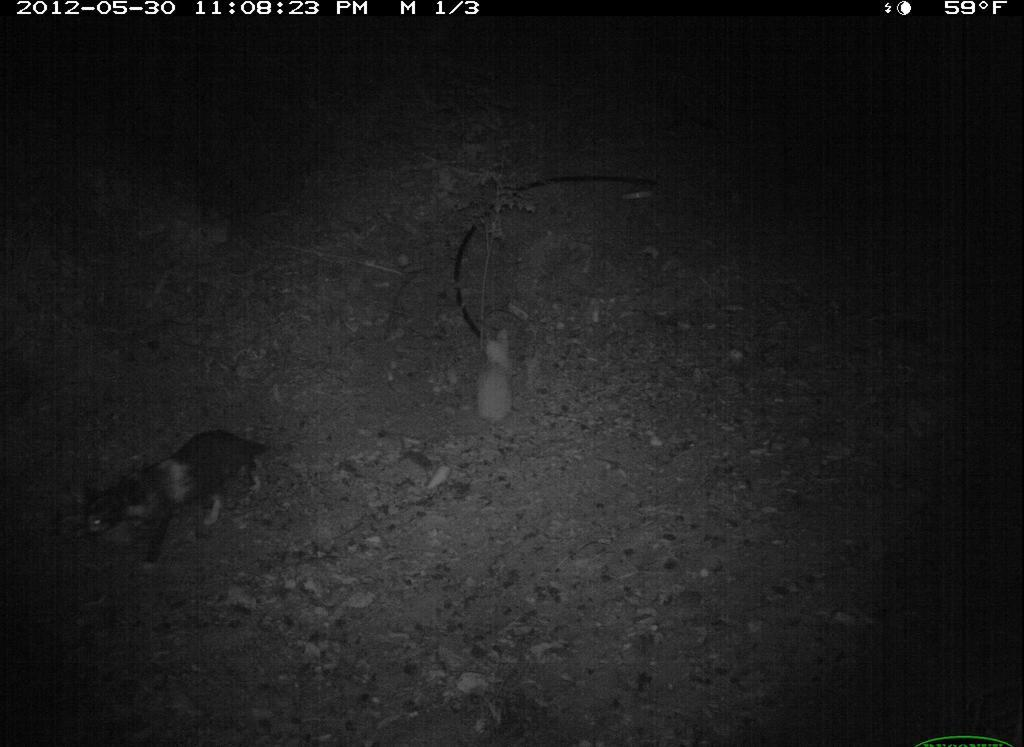cat: (88, 419, 285, 575)
